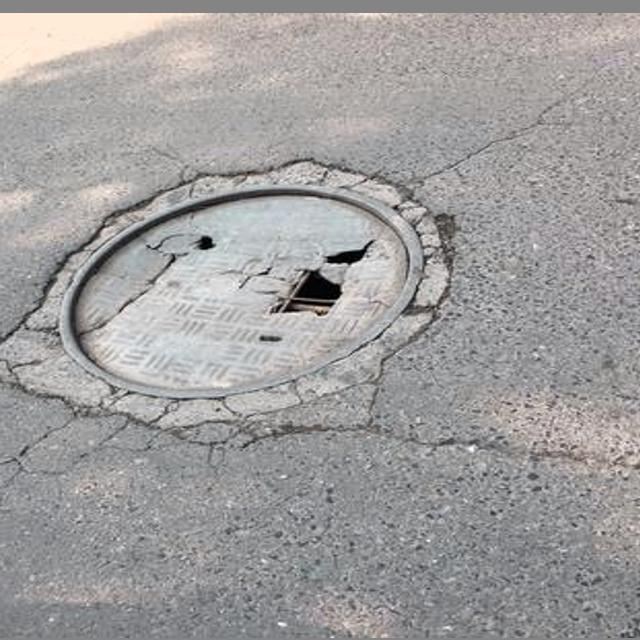broke: (0, 154, 458, 441)
